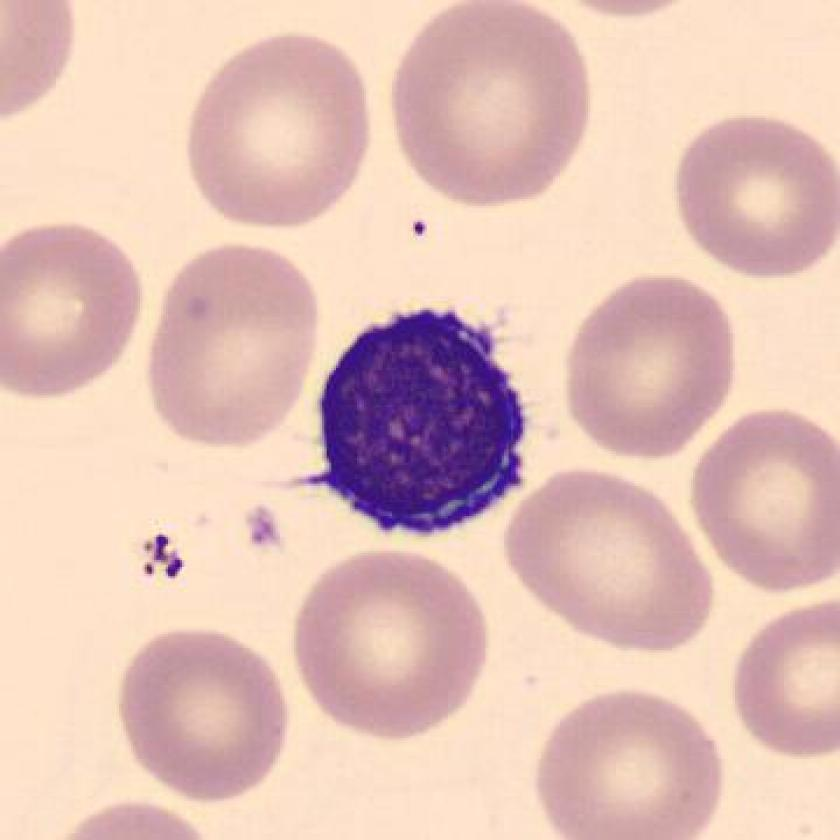lymphocyte: (302, 297, 545, 545)
